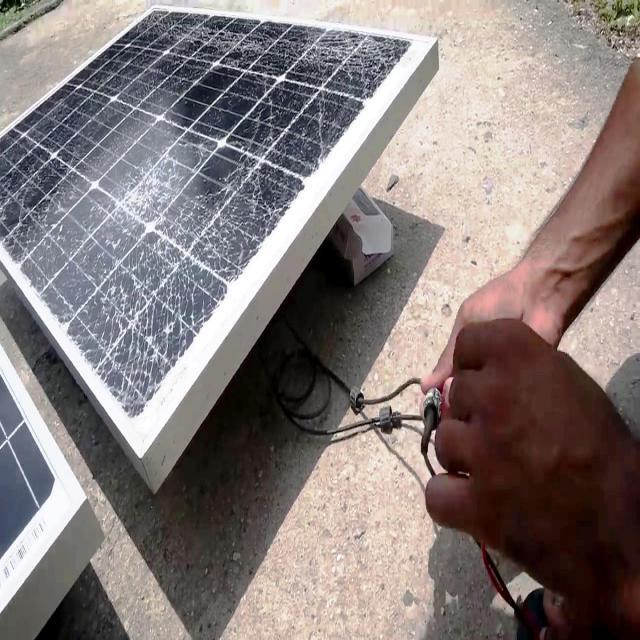faulty: (2, 10, 420, 438)
